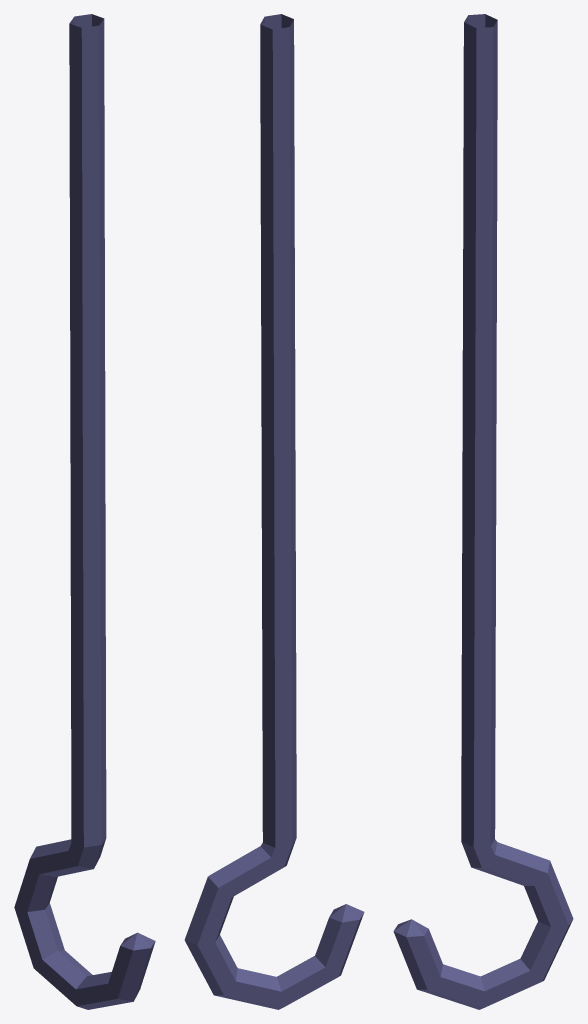
File: Hook.fbx
3 views of the same model, side by side, from view 1: azimuth 90°, elevation 25°; view 2: azimuth 150°, elevation 25°; view 3: azimuth 330°, elevation 25° (orthographic).
Visible parts, largest first — view 1: Hook; view 2: Hook; view 3: Hook.
Part boxes in pixels (box(x1,y1,x2,y2)): Hook: box(14, 14, 155, 1009); Hook: box(184, 14, 364, 1009); Hook: box(393, 14, 573, 1009).
Size of the model in its own units: 5.66 by 43.7 by 5.66.
